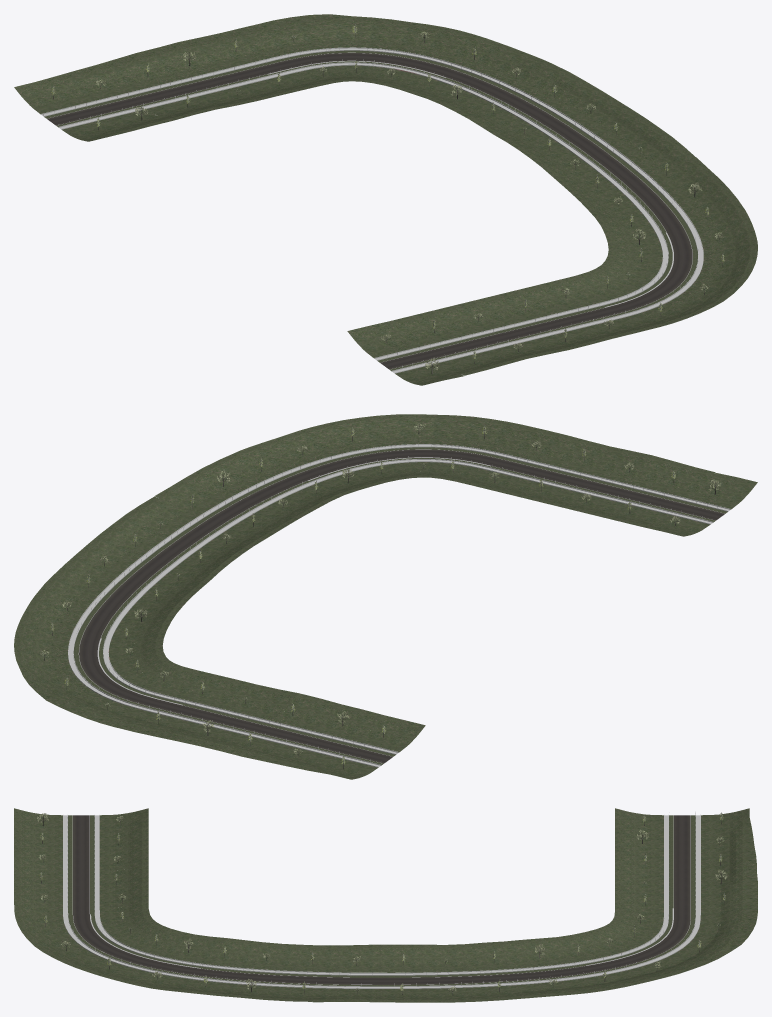
3 views of the same model, one above another, from view 1: azimuth 30°, elevation 25°; view 2: azimuth 150°, elevation 25°; view 3: azimuth 270°, elevation 25° (orthographic). The views are drawn at different scales.
Visible parts, largest first — view 1: Grass, Road, Track, Trees; view 2: Grass, Road, Track, Trees; view 3: Grass, Road, Track, Trees.
Boxes of the visible parts, x1=… form: Grass: x1=14, y1=14, x2=757, y2=385; Road: x1=47, y1=53, x2=692, y2=369; Track: x1=41, y1=47, x2=703, y2=373; Trees: x1=51, y1=24, x2=724, y2=374; Grass: x1=14, y1=414, x2=757, y2=779; Road: x1=79, y1=449, x2=724, y2=763; Track: x1=68, y1=443, x2=730, y2=767; Trees: x1=39, y1=423, x2=721, y2=769; Grass: x1=14, y1=808, x2=757, y2=1002; Road: x1=73, y1=815, x2=690, y2=984; Track: x1=63, y1=812, x2=700, y2=988; Trees: x1=37, y1=812, x2=727, y2=995.
Size of the model in its own units: 47870 by 1791 by 77362.
